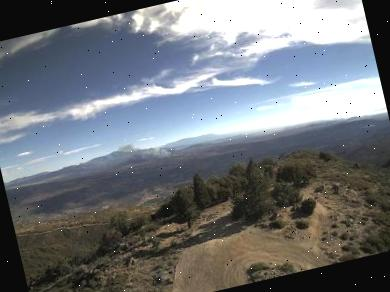smoke: (115, 132, 185, 172)
